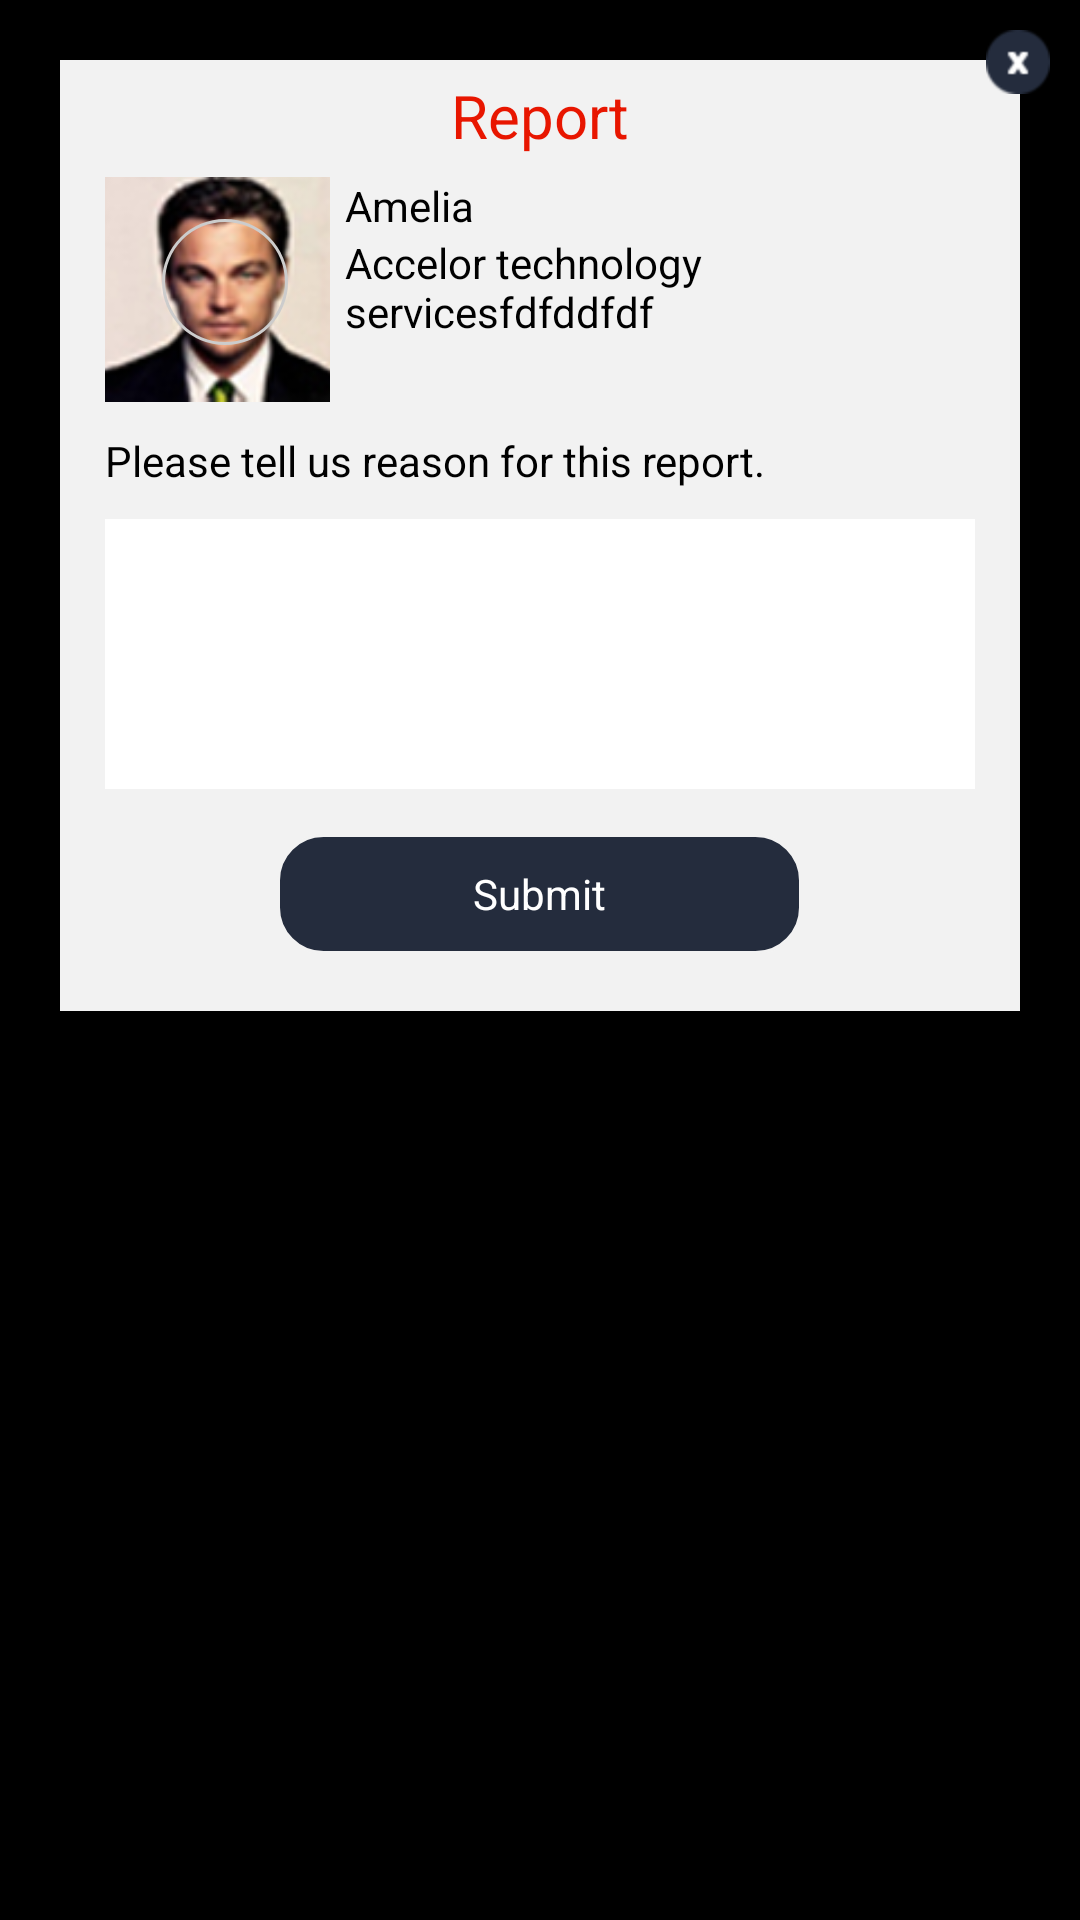

Icons on this 1080w x 1920h Android screen, each with its box as [x1,y1,x2,y2]:
cross: [986,30,1050,94]
user profile pic: [105,177,330,402]
